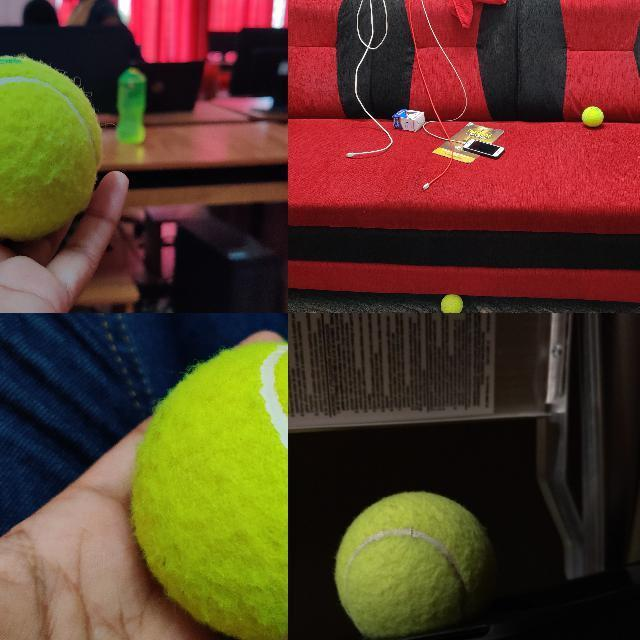tennis-ball: (131, 341, 287, 639), (332, 492, 502, 618), (0, 55, 102, 242), (581, 105, 603, 126), (440, 294, 463, 312)
